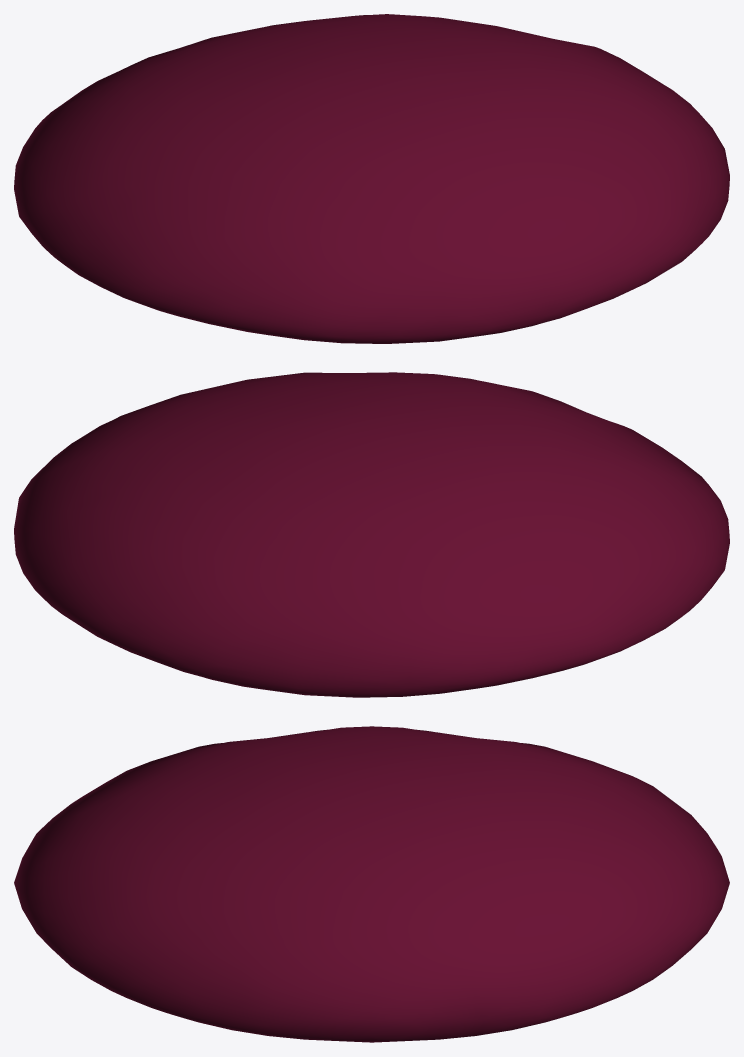
File: Bonibon.fbx
3 renders of one model, top to bottom at view 1: azimuth 30°, elevation 25°; view 2: azimuth 150°, elevation 25°; view 3: azimuth 270°, elevation 25°, orthographic.
Parts seen in each view (by area): view 1: bonibon; view 2: bonibon; view 3: bonibon.
Part boxes in pixels (left/top/right/bottom): bonibon: left=14, top=14, right=729, bottom=343; bonibon: left=14, top=372, right=729, bottom=697; bonibon: left=14, top=726, right=729, bottom=1042.
Size of the model in its own units: 0.4579 by 0.0937 by 0.4613.
